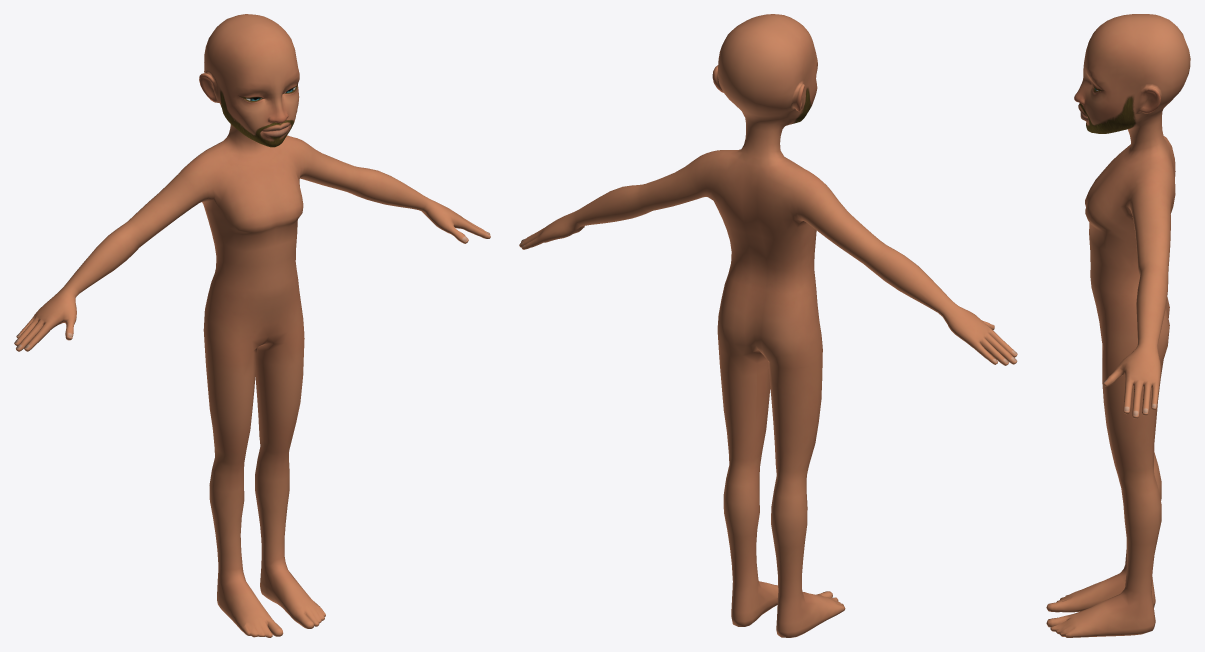
File: frame_0014.glb
3 views of the same model, side by side, from view 1: azimuth 30°, elevation 25°; view 2: azimuth 150°, elevation 25°; view 3: azimuth 270°, elevation 25° (orthographic). The views are drawn at different scales.
Parts seen in each view (by area): view 1: frame_0014_head_geo; view 2: frame_0014_head_geo; view 3: frame_0014_head_geo.
Part boxes in pixels (x1=…): frame_0014_head_geo: x1=14, y1=14, x2=490, y2=637; frame_0014_head_geo: x1=519, y1=14, x2=1017, y2=637; frame_0014_head_geo: x1=1046, y1=14, x2=1190, y2=637.
Bounding box in the file's own units: 1.28 × 1.5 × 0.3253.
3 materials, 3 textured.
